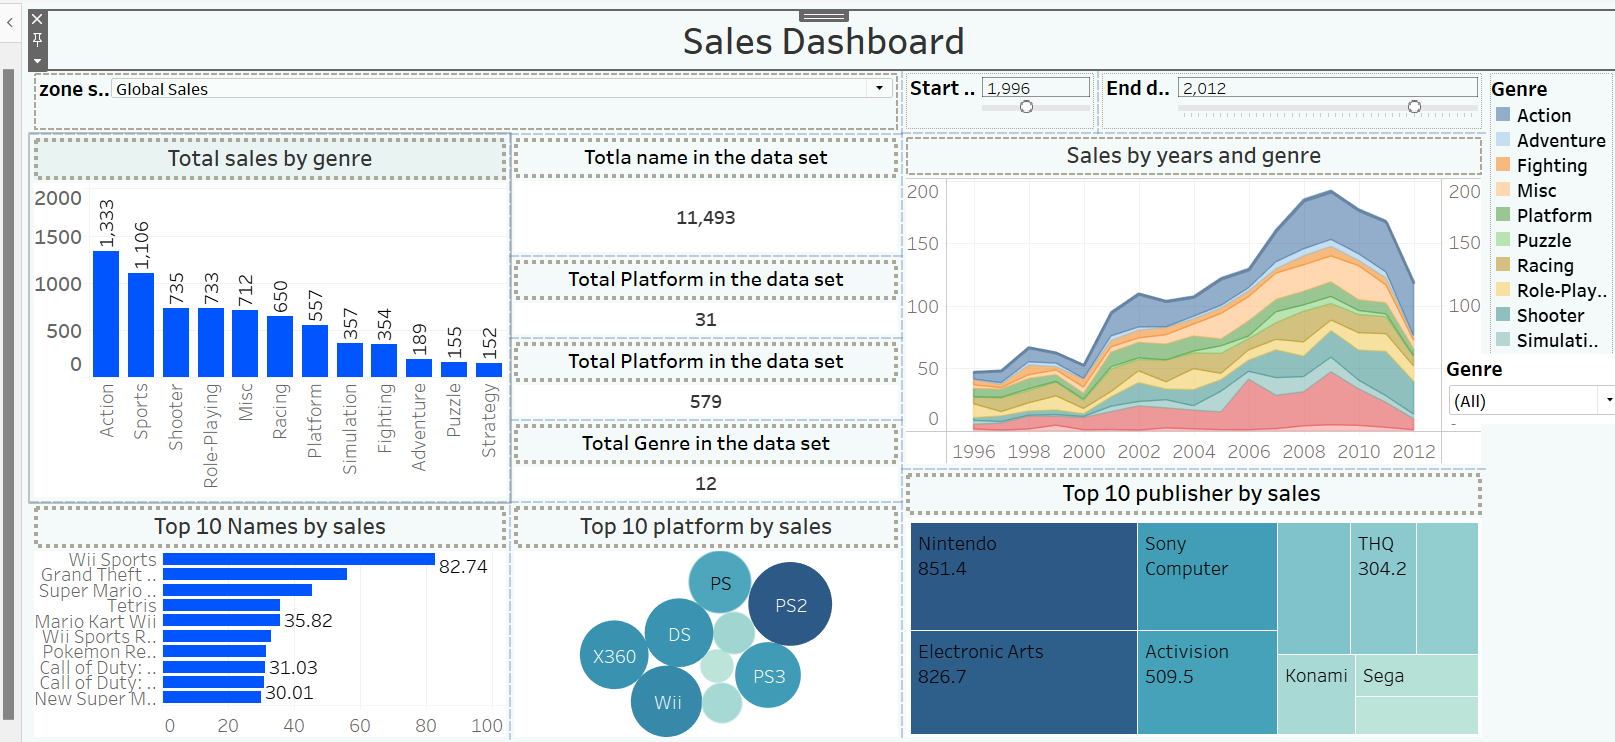

The dashboard page shown, as its layout file describes it:
{"tool":"tableau","page":{"name":"Dashboard 1","canvas":[1000,1000],"units":"permille","ordinal":0},"visuals":[{"type":"title","box":[5,10.7,990,77.7]},{"type":"parameter","param":"[Parameters].[Parameter 1]","box":[5,88.5,543.6,87.6]},{"type":"parameter","param":"[Parameters].[Parameter 2]","box":[548.6,88.5,122.3,86.4]},{"type":"parameter","param":"[Parameters].[Parameter 3]","box":[670.9,88.5,241.8,86.4]},{"type":"legend","title":"Sales by Years and genre","param":"[federated.0t5e3xj1kw37sy1cs90vx0yctowi].[none:Genre:nk]","box":[912.7,88.5,82.3,453.1]},{"type":"worksheet","title":"Sales by Years and genre","mark":"Automatic","rows":["EU_Sales","EU_Sales"],"cols":["Year"],"box":[548.6,174.8,364.1,449.2]},{"type":"worksheet","title":"Total sales by Genre","mark":"Automatic","rows":["Calculation_891712791117869056"],"cols":["Genre"],"box":[5,176.1,299.1,492.4]},{"type":"worksheet","title":"Total names in the data set ","mark":"Automatic","box":[304.1,176.1,244.6,162.9]},{"type":"worksheet","title":"Total Platform in the data set","mark":"Automatic","box":[304.1,338.9,244.6,109.8]},{"type":"worksheet","title":"Total Publisher in the data set","mark":"Automatic","box":[304.1,448.8,244.6,109.8]},{"type":"filter","title":"Sales by Years and genre","param":"[federated.0t5e3xj1kw37sy1cs90vx0yctowi].[none:Genre:nk]","box":[887.5,470.5,113.1,93.8]},{"type":"worksheet","title":"Total Genre in the data set ","mark":"Automatic","box":[304.1,558.6,244.6,109.8]},{"type":"worksheet","title":"Top 10 publisher by sales ","mark":"Automatic","box":[548.6,624,364.1,365.3]},{"type":"worksheet","title":"Top 10 Names by sales","mark":"Automatic","rows":["Name"],"cols":["Calculation_891712791117869056"],"box":[5,668.4,299.4,320.9]},{"type":"worksheet","title":"Top 10 platform by sales ","mark":"Circle","box":[304.4,668.4,244.2,320.9]}]}

Visuals, with their boxes on the dashboard's canvas, which has no fixed pixel size, in thousandths of its width and height (x1, y1, x2, y2). These are canvas units, not pixel positions in the 1615x742 screenshot, which may show the page scaled, cropped or inside an application window:
title: bbox(5, 11, 995, 88)
parameter: bbox(5, 88, 549, 176)
parameter: bbox(549, 88, 671, 175)
parameter: bbox(671, 88, 913, 175)
"Sales by Years and genre" legend: bbox(913, 88, 995, 542)
"Sales by Years and genre" worksheet: bbox(549, 175, 913, 624)
"Total sales by Genre" worksheet: bbox(5, 176, 304, 668)
"Total names in the data set " worksheet: bbox(304, 176, 549, 339)
"Total Platform in the data set" worksheet: bbox(304, 339, 549, 449)
"Total Publisher in the data set" worksheet: bbox(304, 449, 549, 559)
"Sales by Years and genre" filter: bbox(888, 470, 1001, 564)
"Total Genre in the data set " worksheet: bbox(304, 559, 549, 668)
"Top 10 publisher by sales " worksheet: bbox(549, 624, 913, 989)
"Top 10 Names by sales" worksheet: bbox(5, 668, 304, 989)
"Top 10 platform by sales " worksheet (Circle marks): bbox(304, 668, 549, 989)
